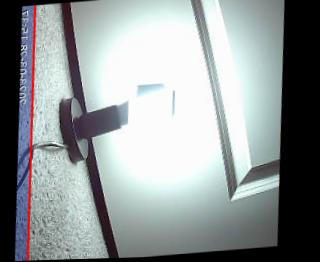TubeLight: (129, 84, 177, 131)
